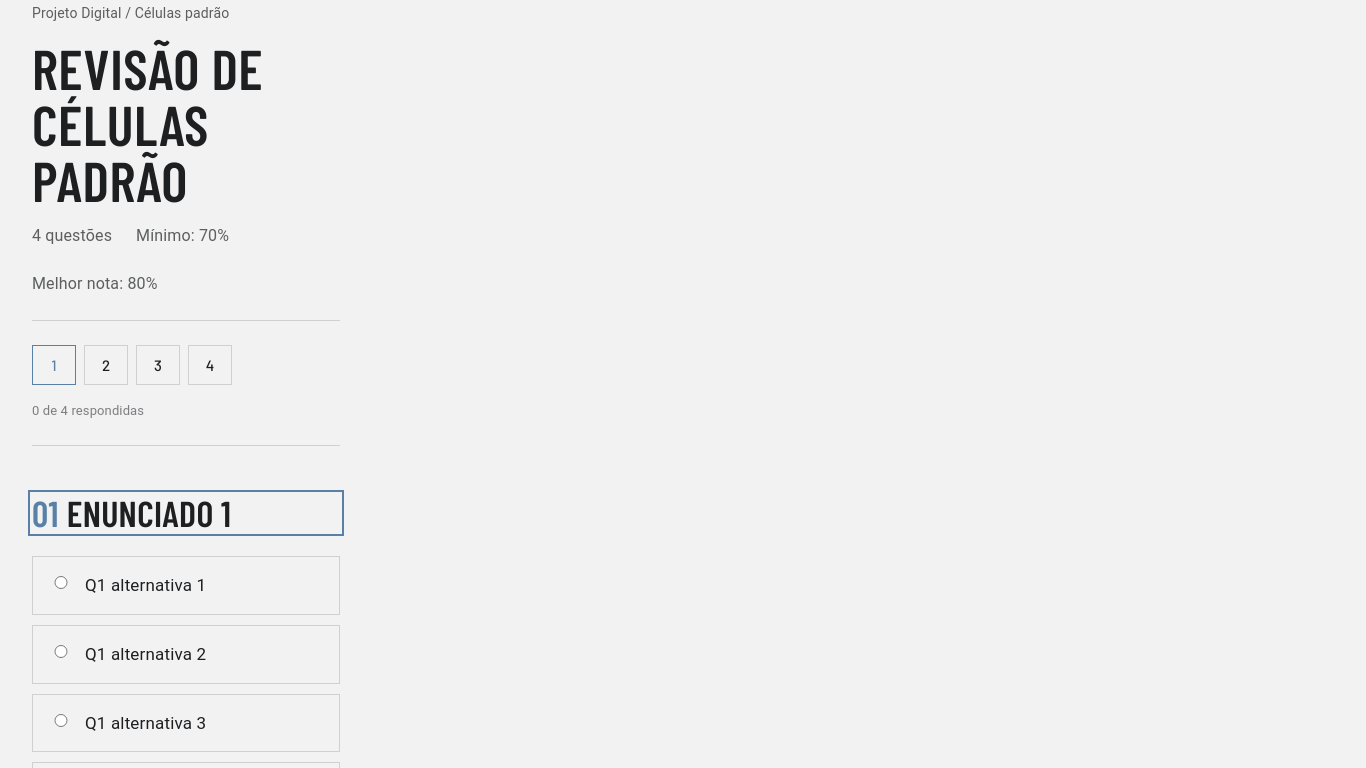
Test: Quiz público › corrige, mostra a explicação e registra uma única tentativa
The width and height of the screenshot is (1366, 768).
Click the radio button labelled "Q1 alternativa 1" at x=61, y=583, box [49,576,73,589]
(page scrolled)
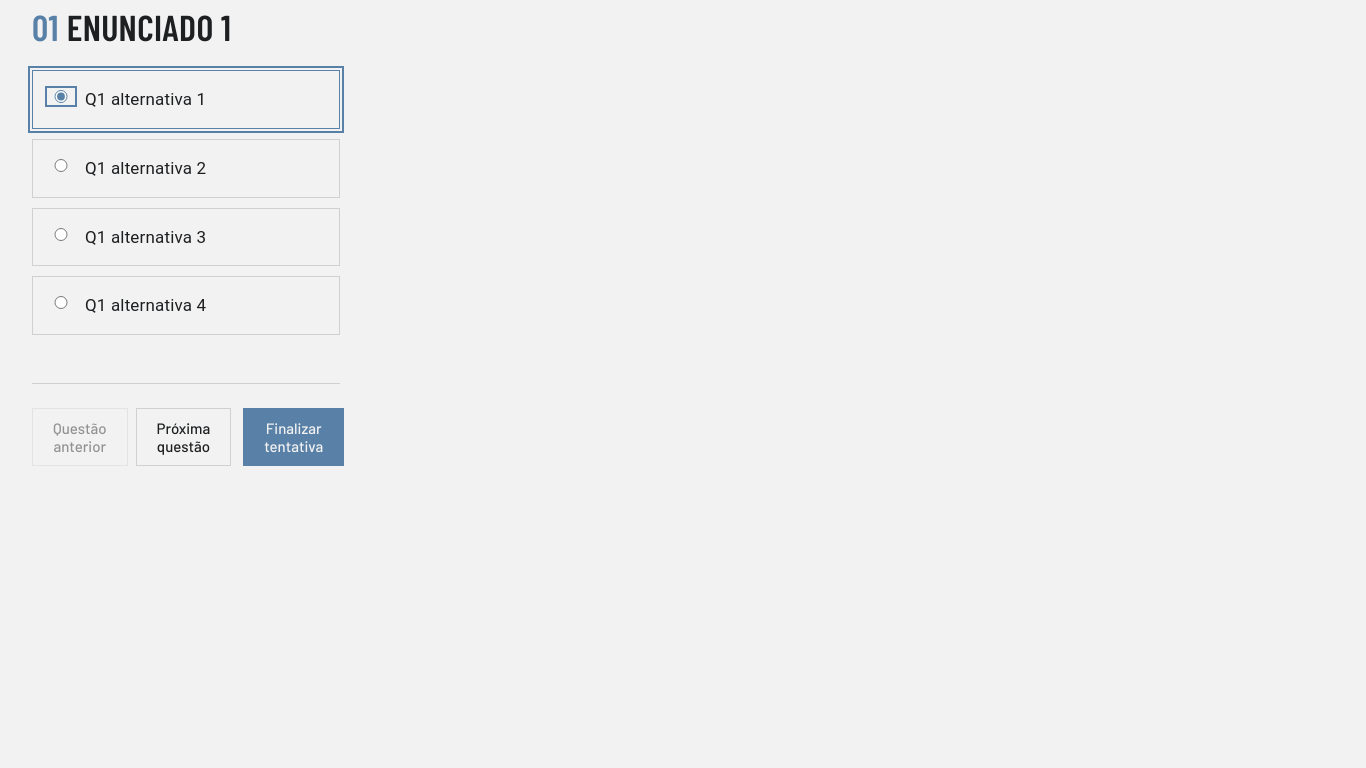
Click the button "Finalizar tentativa" at x=294, y=437, box [243,408,344,466]
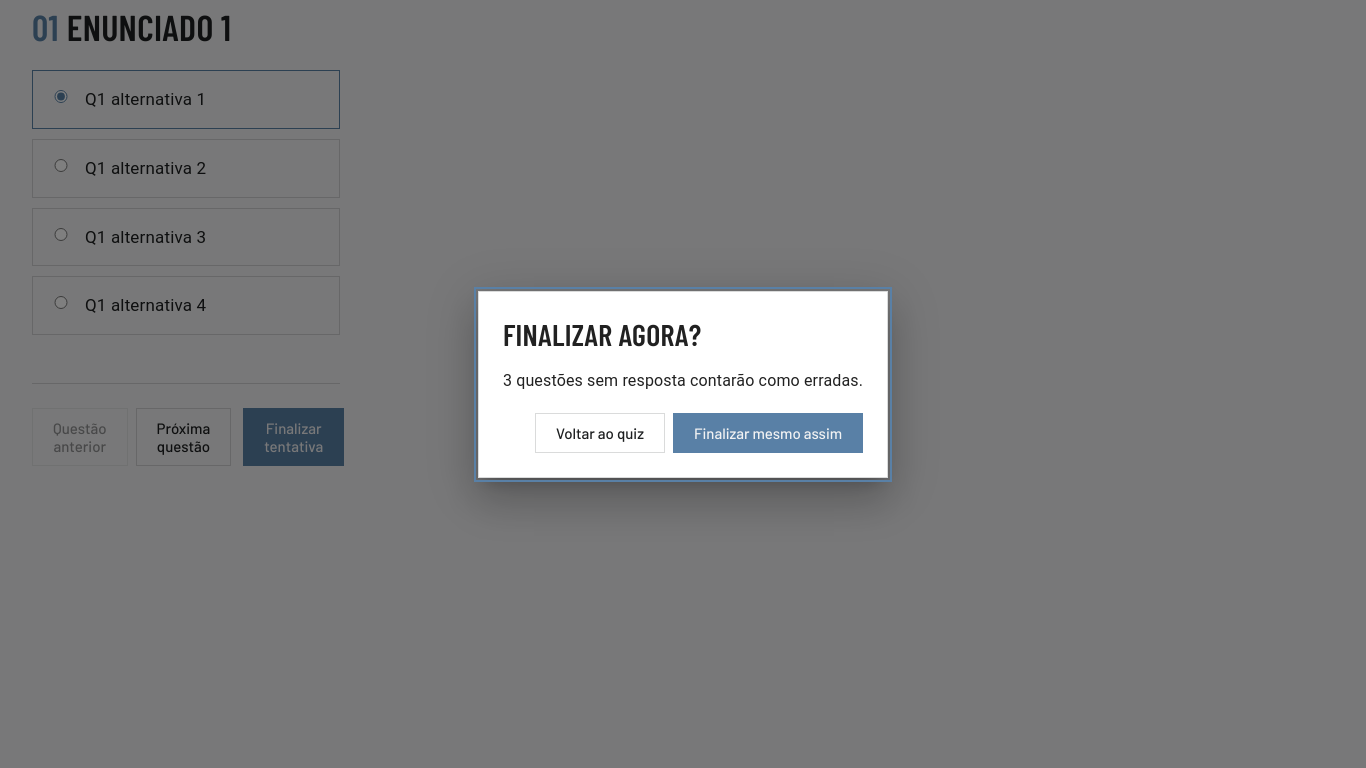
Click the button "Finalizar mesmo assim" at x=768, y=432, box [673,412,863,452]
(page scrolled)
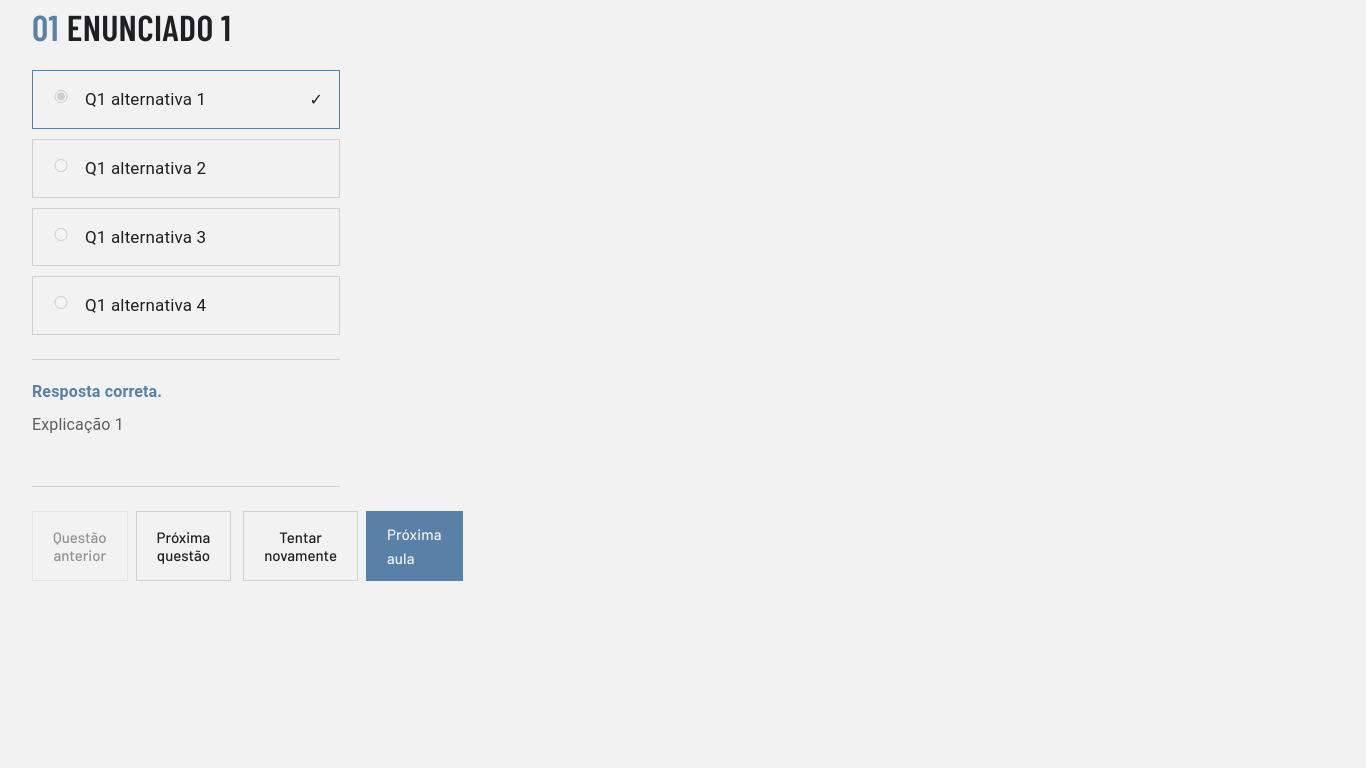
Expected: the text "Explicação 1" is shown, [32,415,124,434]
